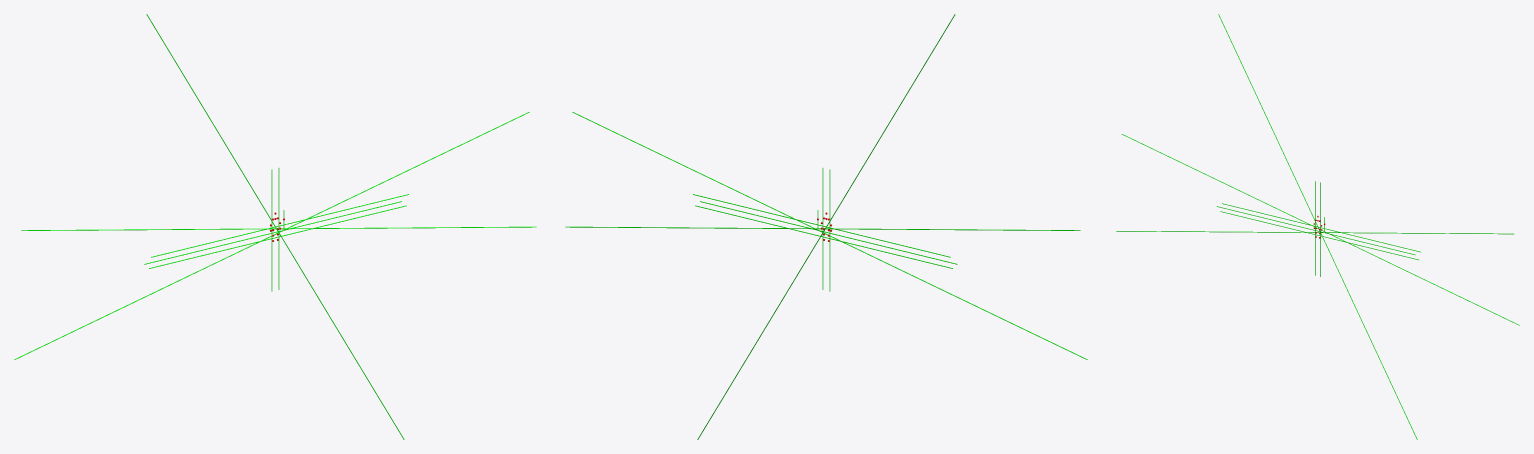
The model's file is pose_structure_first.gltf.
3 views of the same model, side by side, from view 1: azimuth 30°, elevation 25°; view 2: azimuth 150°, elevation 25°; view 3: azimuth 330°, elevation 25° (orthographic). The views are drawn at different scales.
Bounding box in the file's own units: 2918 × 2609 × 10.
